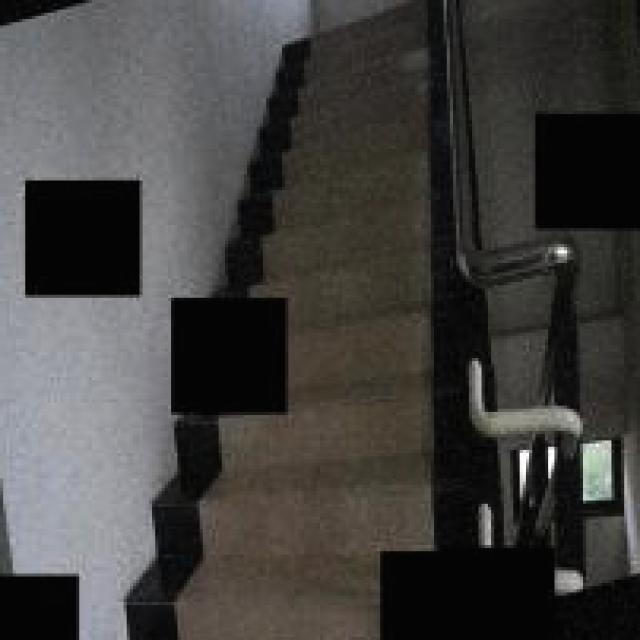upstair: (270, 20, 454, 289)
